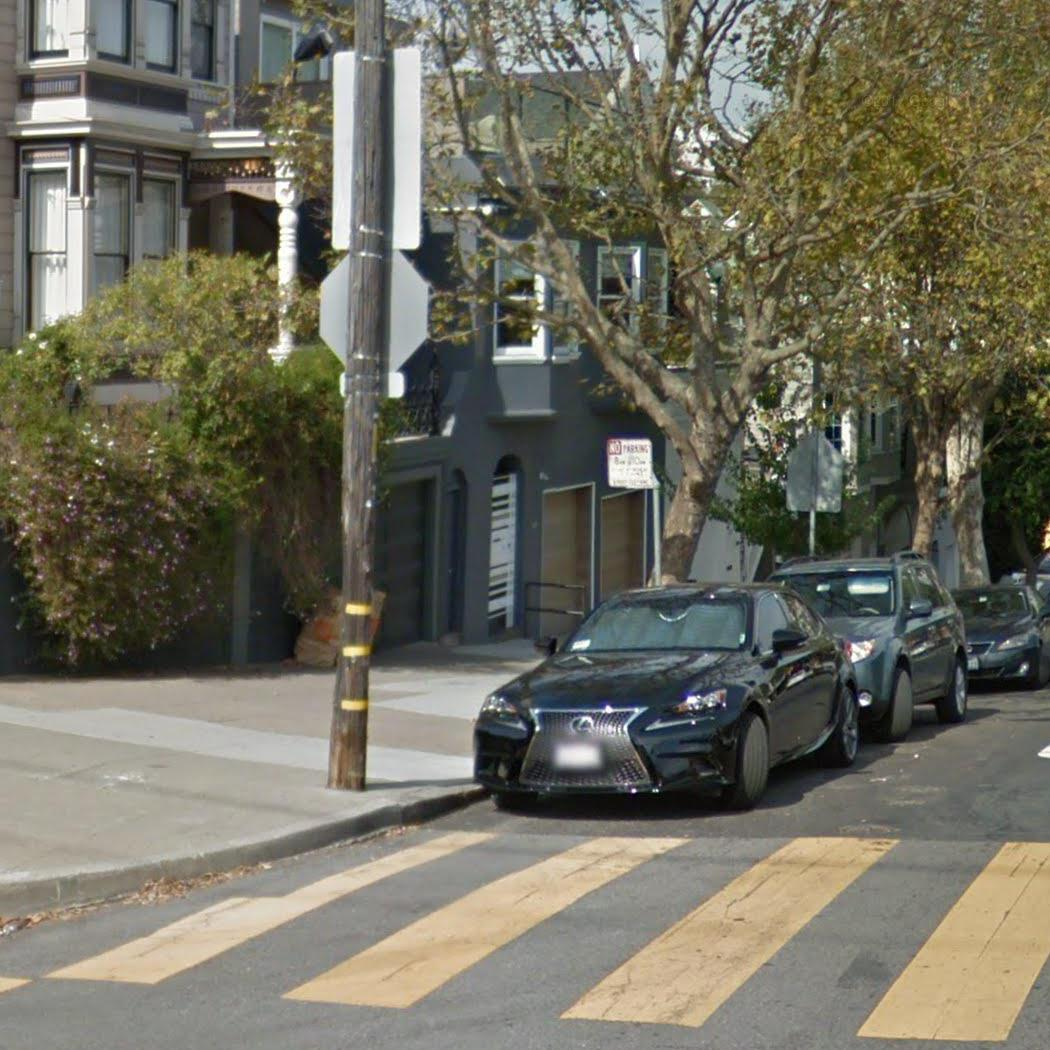No Parking: (604, 436, 655, 493)
